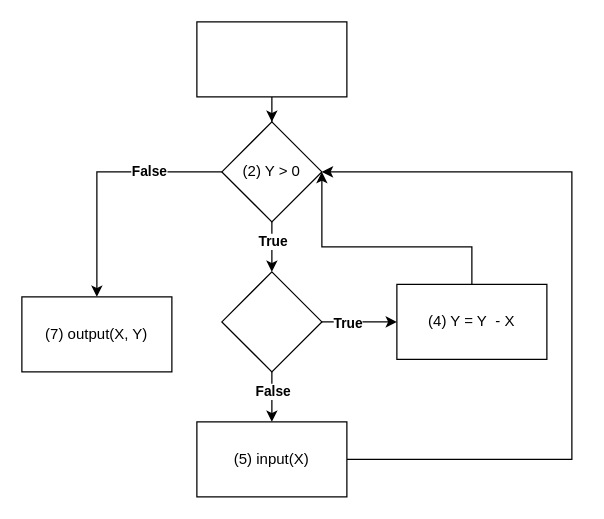
The diagram is 604 pixels wide and 519 high, and some of its shapes have lost their labels. The box of each missing label's shape, as (x1, y1, x2, y2) in pixels:
(1) input(X, Y): (196, 21, 347, 97)
(3) X > 0: (221, 271, 322, 372)
